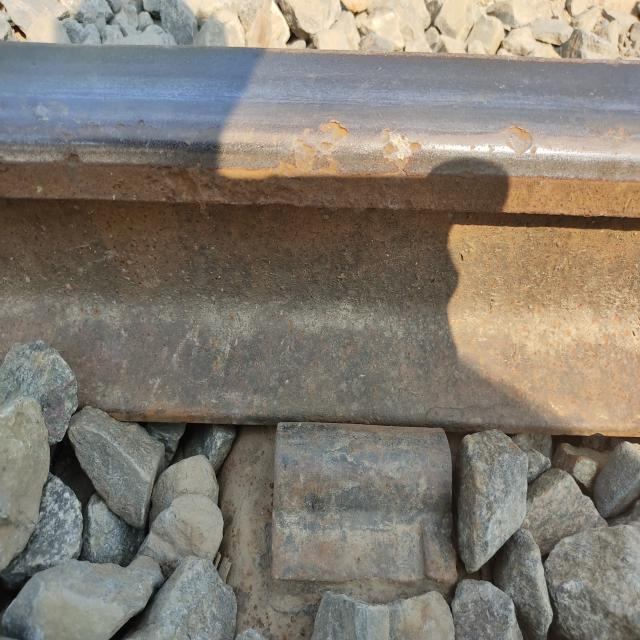defective: (213, 292, 482, 586)
